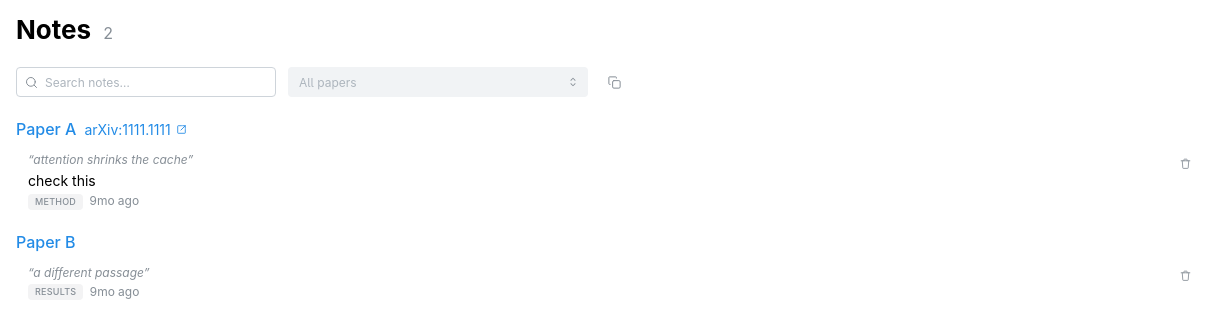
Test: NotesPage › shows the filtered-empty state distinctly from the true-empty state
This screenshot has width=1208, height=317.
Expected: the link "Paper A" is shown, x1=16 y1=117 x2=76 y2=142
Type "nothing matches this" into the field labelled "Search notes". click: (146, 82)
box: x1=16 y1=67 x2=276 y2=97
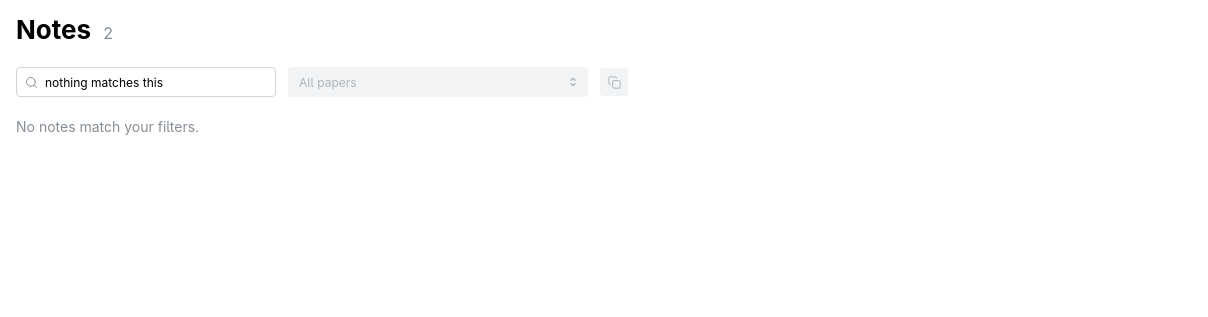
Result: the text "No notes match your filters." is shown at x1=16 y1=118 x2=199 y2=135
